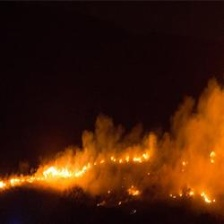fire: (1, 150, 220, 210)
smoke: (93, 81, 224, 144)
